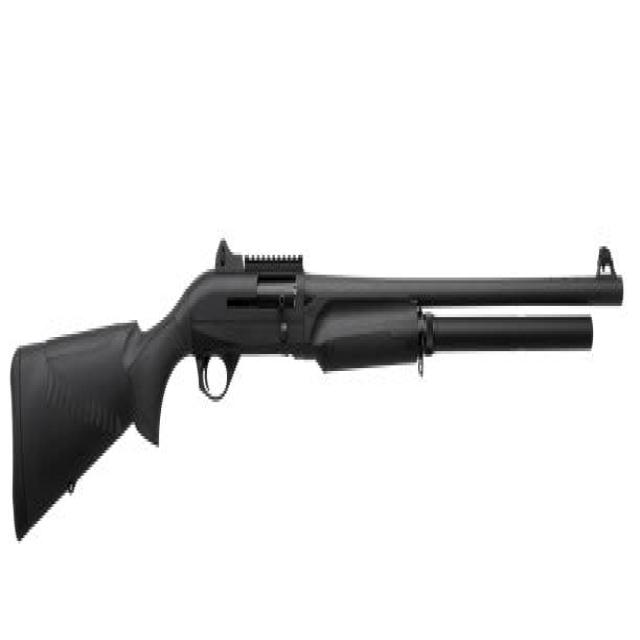rifle: (7, 217, 631, 560)
